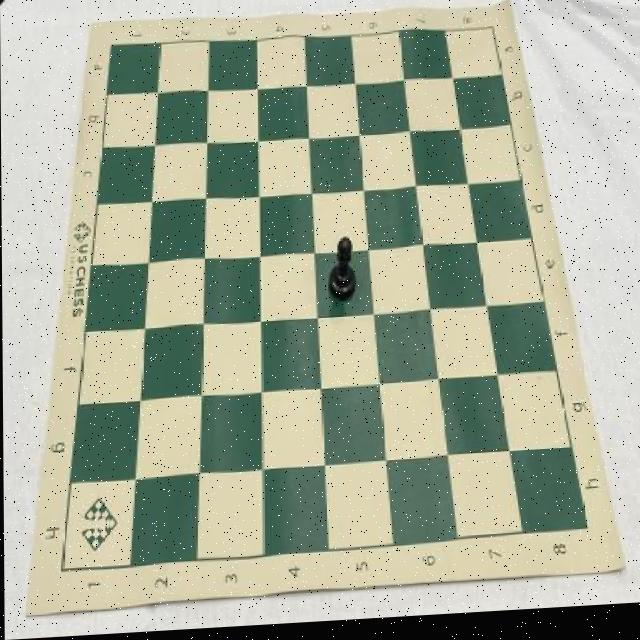black-knight: (328, 240, 357, 306)
